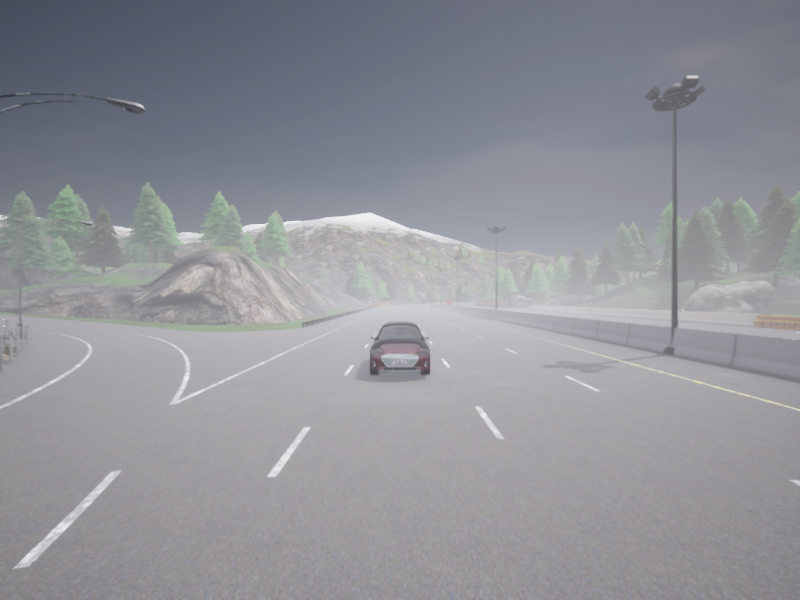vehicle: (370, 321, 429, 375), (445, 300, 452, 304)
